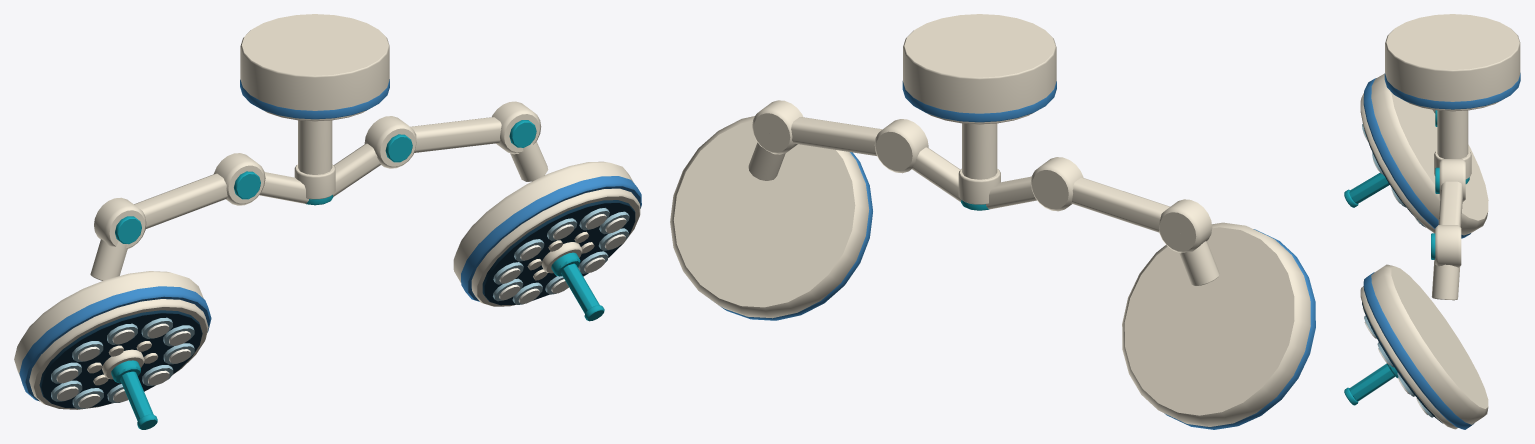
File: medical-08.glb
3 renders of one model, left to right at view 1: azimuth 30°, elevation 25°; view 2: azimuth 150°, elevation 25°; view 3: azimuth 270°, elevation 25°, orthographic. The views are drawn at different scales.
Visible parts, largest first — view 1: 08_Surgical_Lights__left_light, 08_Surgical_Lights__right_light, 08_Surgical_Lights__mount; view 2: 08_Surgical_Lights__left_light, 08_Surgical_Lights__right_light, 08_Surgical_Lights__mount; view 3: 08_Surgical_Lights__right_light, 08_Surgical_Lights__mount, 08_Surgical_Lights__left_light.
Boxes of the visible parts, x1,y1,x2,y2 form: 08_Surgical_Lights__left_light: (14, 153, 308, 429); 08_Surgical_Lights__right_light: (333, 101, 641, 321); 08_Surgical_Lights__mount: (240, 14, 389, 205); 08_Surgical_Lights__left_light: (985, 157, 1315, 429); 08_Surgical_Lights__right_light: (670, 100, 961, 320); 08_Surgical_Lights__mount: (902, 14, 1056, 210); 08_Surgical_Lights__right_light: (1344, 159, 1488, 429); 08_Surgical_Lights__mount: (1384, 14, 1520, 183); 08_Surgical_Lights__left_light: (1344, 73, 1488, 238).
Size of the model in its own units: 2.01 by 0.9818 by 0.5557.
Materials: 1 (1 with a texture image).
